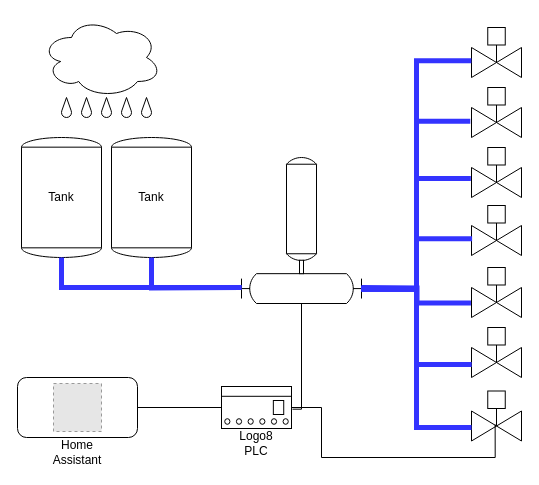
Some shapes in this 539 by 485 pixel diagram are drawn without their labels. Grey dashed boxes stand in for pictures. The box of each missing label's shape, as (x1, y1, x2, y2) in pixels:
PUMP: (240, 156, 362, 304)
RAIN: (40, 16, 162, 98)
